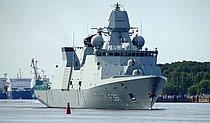MIL_Ship: (30, 7, 167, 111)
